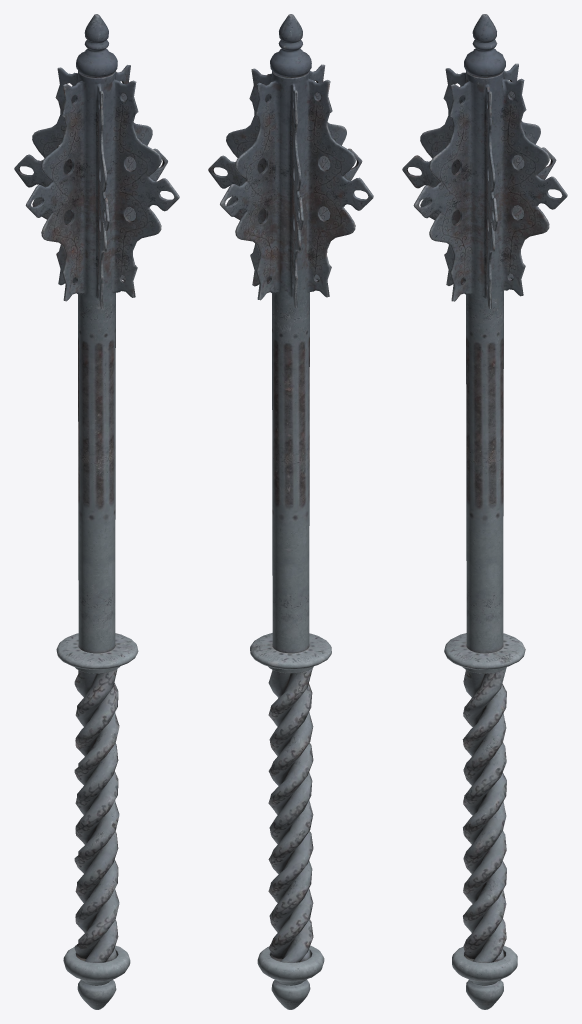
File: mace.glb
The picture shows the model from 3 angles, left to right: view 1: azimuth 30°, elevation 25°; view 2: azimuth 150°, elevation 25°; view 3: azimuth 270°, elevation 25°; orthographic projection.
Parts seen in each view (by area): view 1: mace; view 2: mace; view 3: mace.
Part boxes in pixels (x1,y1,x2,y2): mace: [14, 14, 179, 1009]; mace: [208, 14, 373, 1009]; mace: [402, 14, 567, 1009].
Size of the model in its own units: 0.1322 by 0.819 by 0.1233.
1 material, 1 textured.
